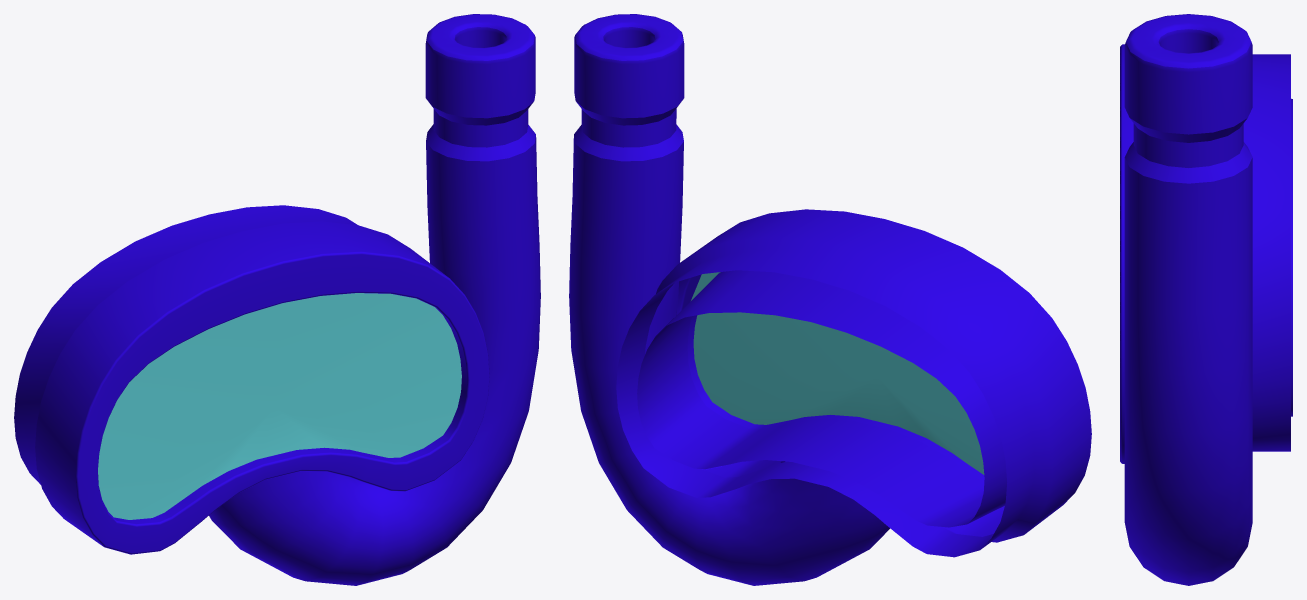
File: goggles.fbx
3 renders of one model, left to right at view 1: azimuth 30°, elevation 25°; view 2: azimuth 150°, elevation 25°; view 3: azimuth 270°, elevation 25°, orthographic. The views are drawn at different scales.
Parts seen in each view (by area): view 1: Object_3, Object_2; view 2: Object_3, Object_2; view 3: Object_3.
Part boxes in pixels (x1,y1,x2,y2): Object_3: [14, 14, 540, 585]; Object_2: [98, 293, 461, 519]; Object_3: [569, 14, 1091, 585]; Object_2: [691, 272, 984, 474]; Object_3: [1120, 14, 1292, 585].
Bounding box in the file's own units: 1186 × 1194 × 316.
